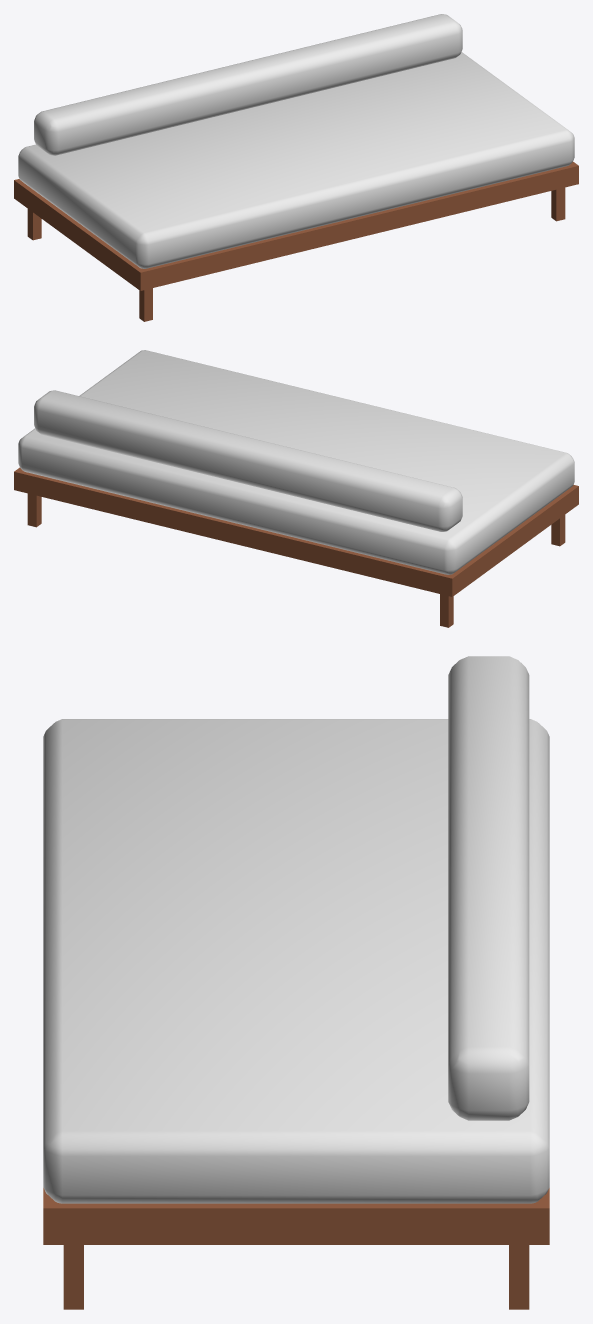
Rendered from Sofa.fbx.
3 views of the same model, one above another, from view 1: azimuth 30°, elevation 25°; view 2: azimuth 150°, elevation 25°; view 3: azimuth 270°, elevation 25° (orthographic). The views are drawn at different scales.
Parts seen in each view (by area): view 1: Cube.050; view 2: Cube.050; view 3: Cube.050.
Boxes of the visible parts, x1,y1,x2,y2 form: Cube.050: (14,14,578,321); Cube.050: (14,350,578,627); Cube.050: (43,656,549,1309).
Bounding box in the file's own units: 10 × 2.75 × 5.
